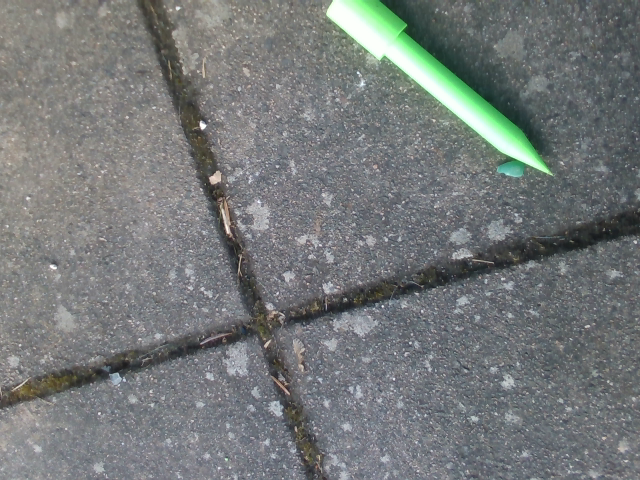Probe: (320, 1, 558, 181)
